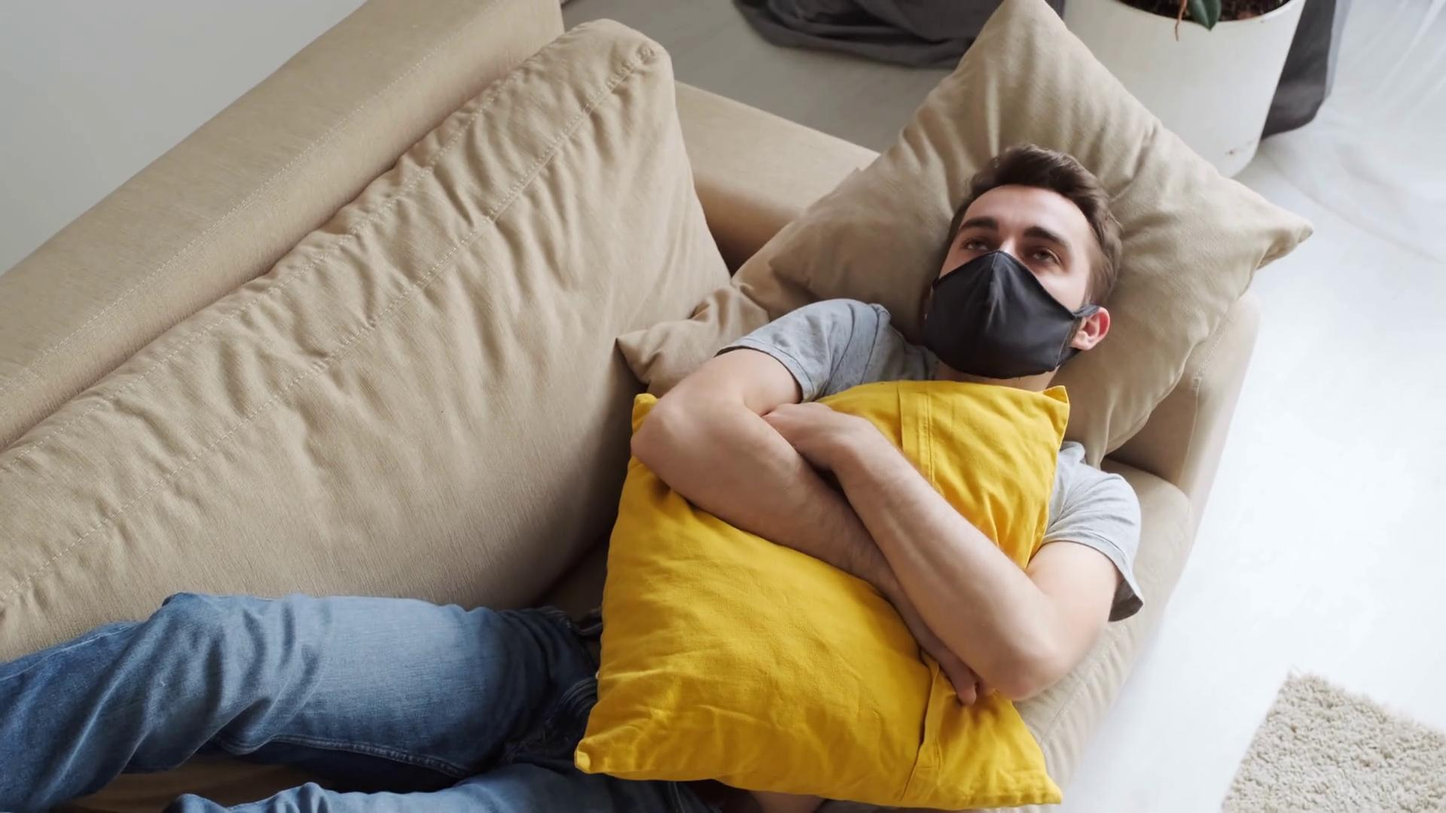OK: (935, 195, 1089, 379)
